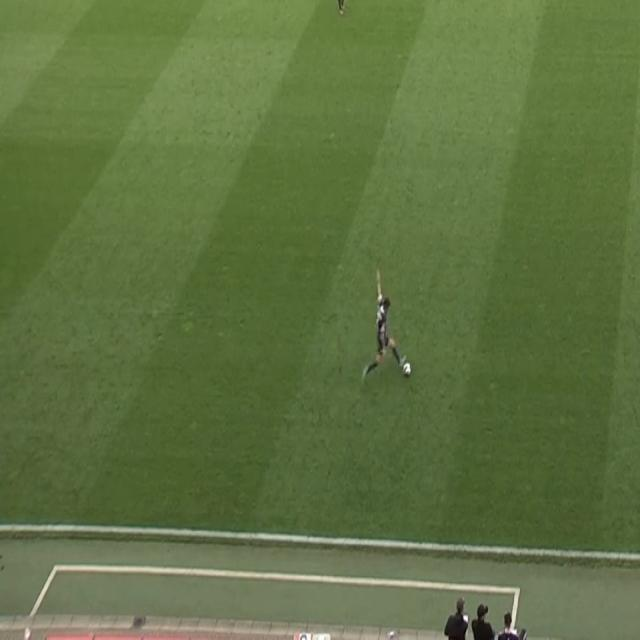ball: (402, 361, 413, 379)
